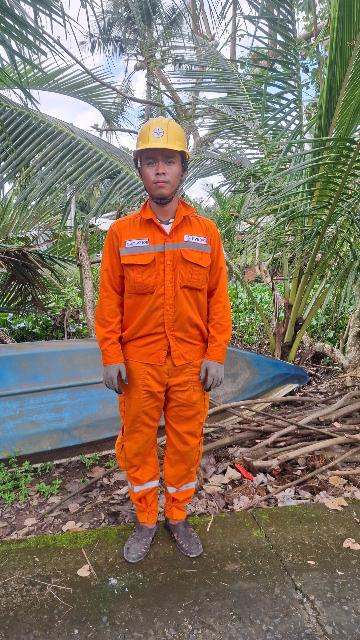gloves: (188, 356, 242, 396), (91, 359, 136, 391)
helmet: (116, 103, 203, 172)
shoes: (155, 510, 212, 565), (118, 505, 158, 566)
